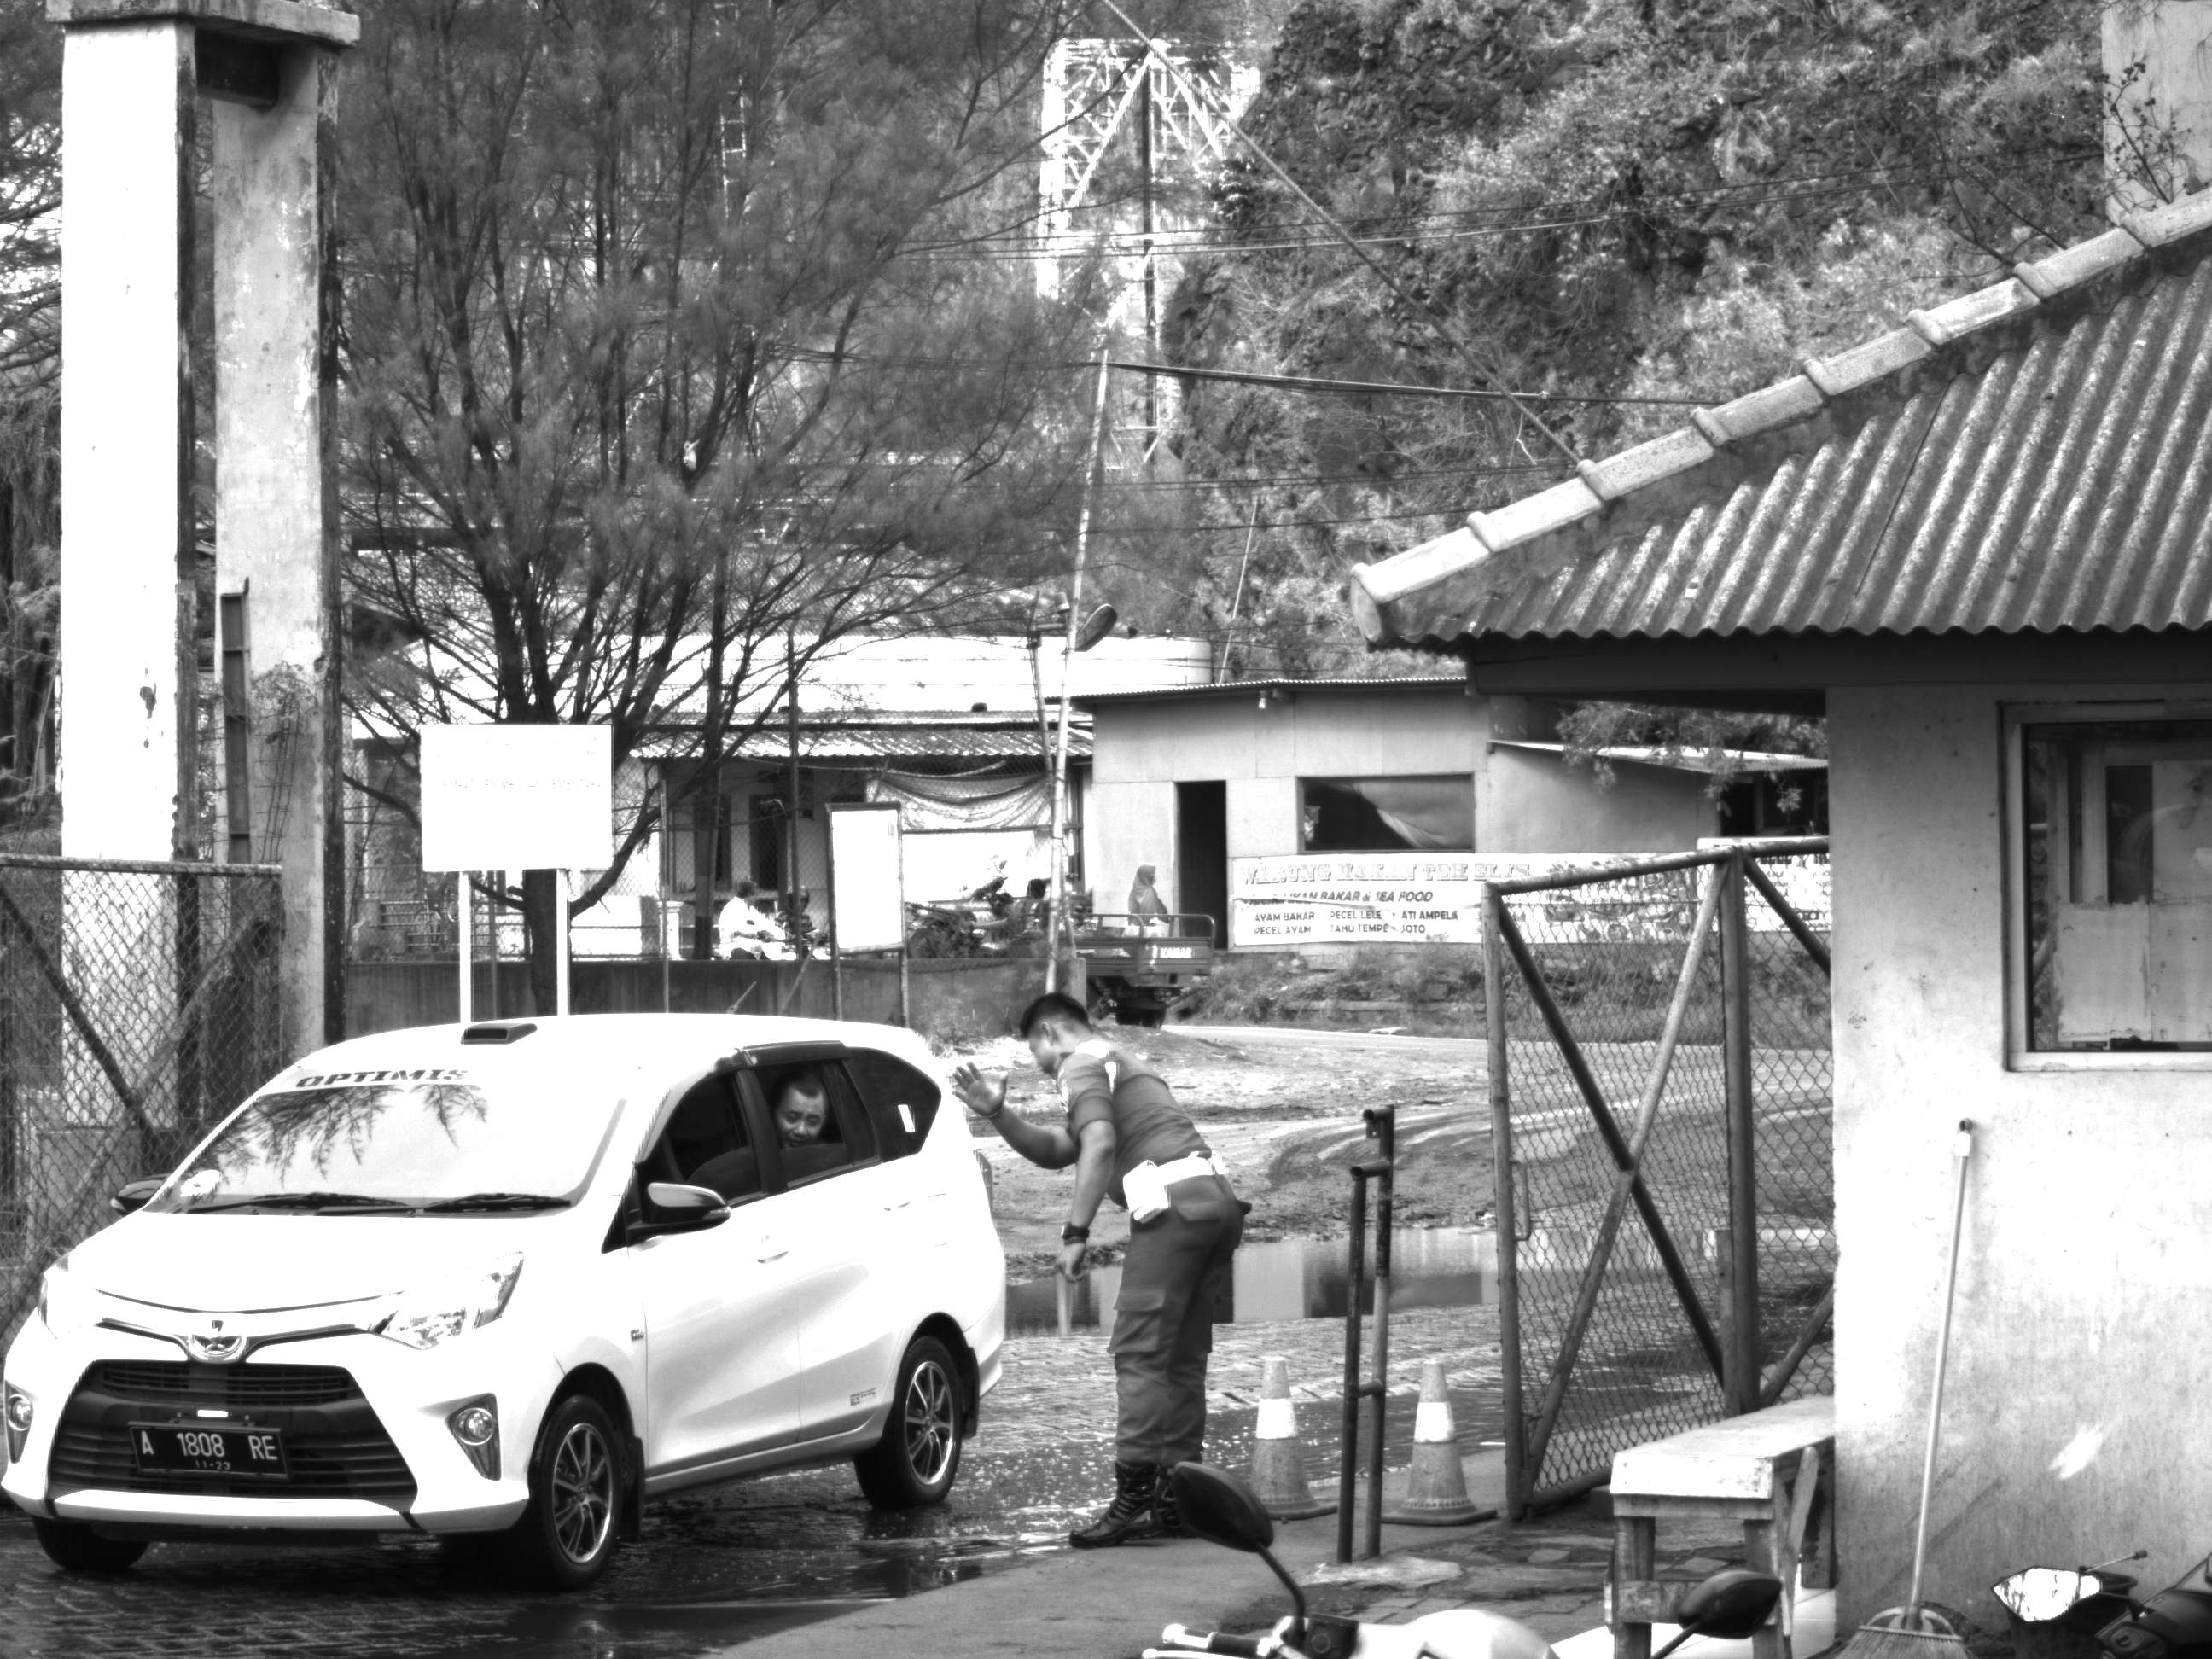day_small_front: (13, 1012, 672, 1590)
plate: (134, 1417, 294, 1481)
